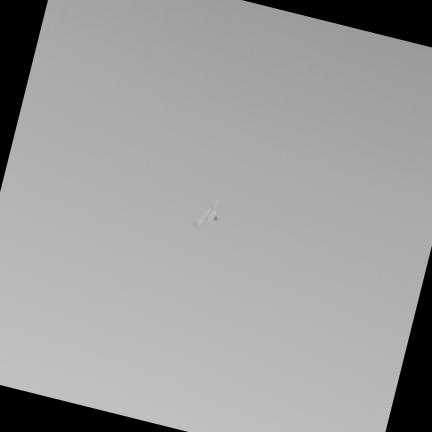Shahed: (197, 201, 216, 224)
